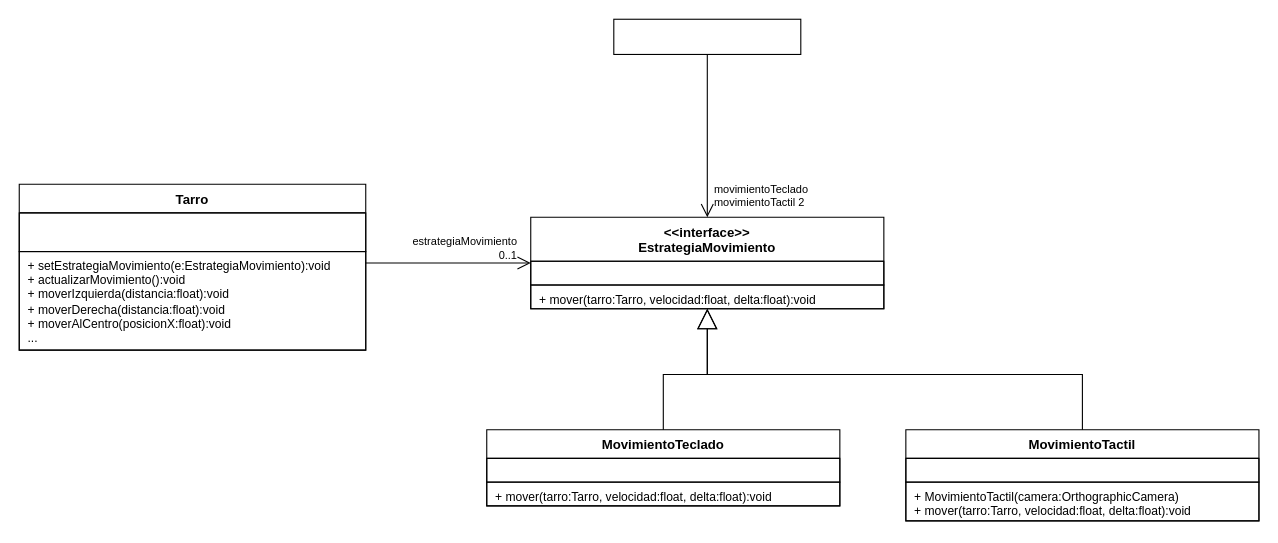
The diagram is 1278 pixels wide and 543 high, and some of its shapes have lost their labels. The shapes that lost their labels are listed below. From the top down, each one's centre as x and y in pixels, then its label:
At (x=707, y=36): "GameScreen".
At (x=192, y=232): "- estrategiaMovimiento: EstrategiaMovimiento ...".
At (x=1082, y=469): "- camera: OrthographicCamera {readOnly}".
